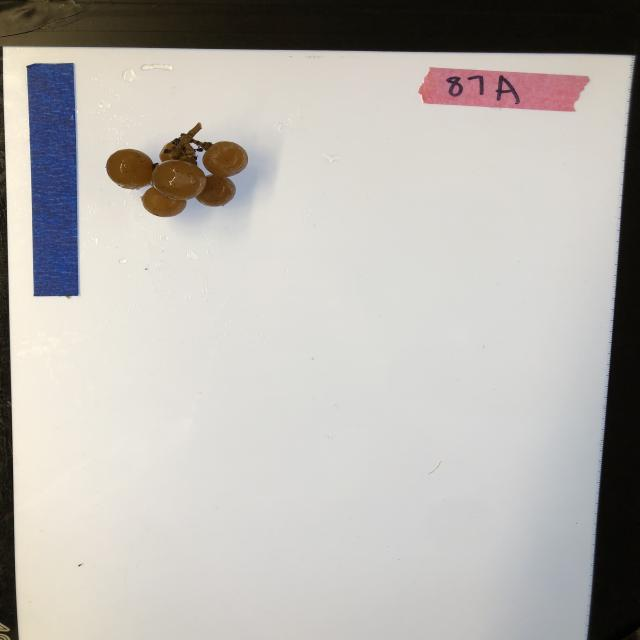grape_cluster: (104, 120, 249, 219)
index: (417, 64, 592, 116)
measure_label: (26, 62, 80, 298)
